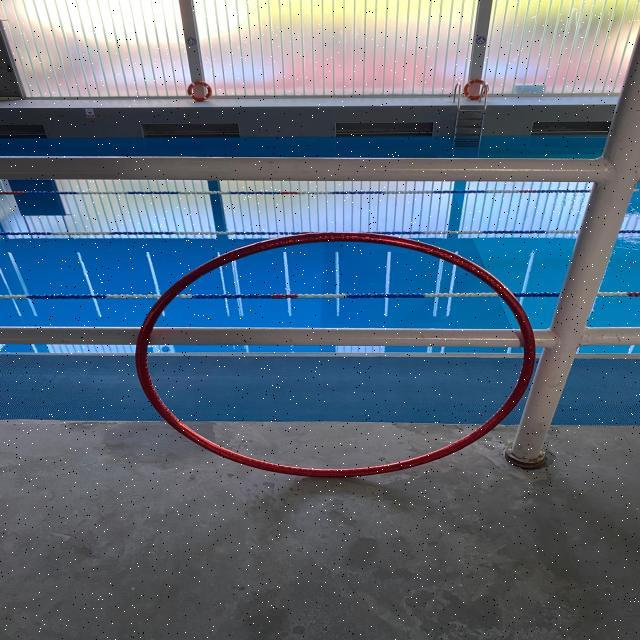Circle: (127, 229, 539, 478)
